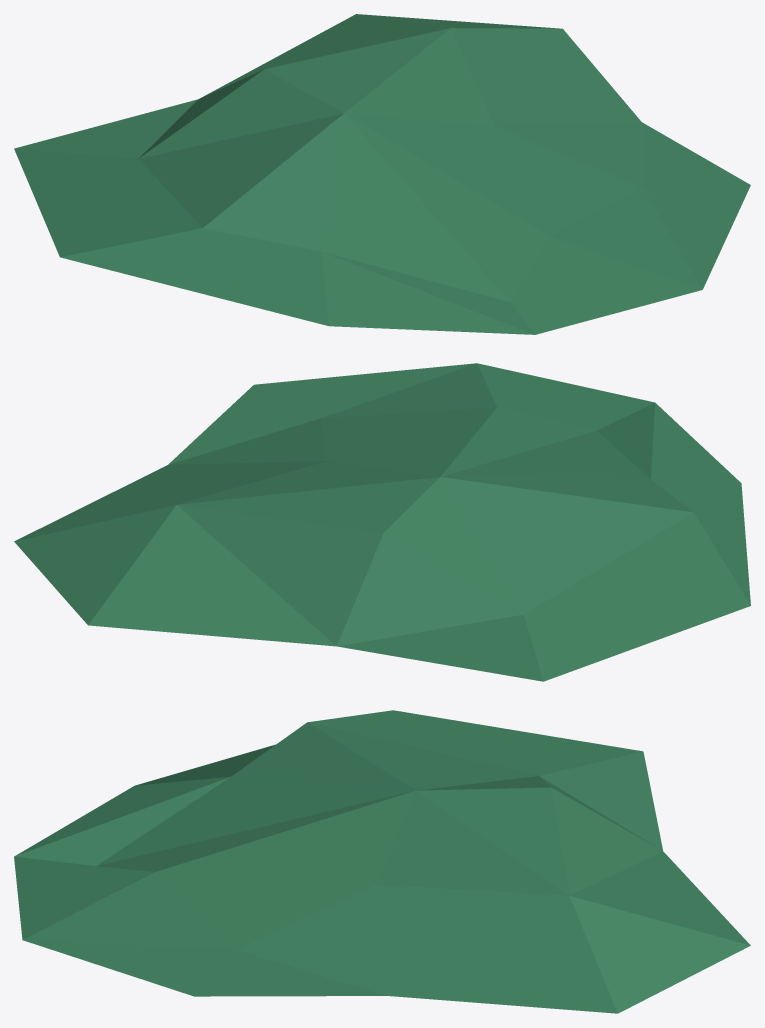
File: SM_L_grey_hill2.fbx
The picture shows the model from 3 angles, top to bottom: view 1: azimuth 30°, elevation 25°; view 2: azimuth 150°, elevation 25°; view 3: azimuth 270°, elevation 25°; orthographic projection.
Parts seen in each view (by area): view 1: SM_L_Env_Grey_hill; view 2: SM_L_Env_Grey_hill; view 3: SM_L_Env_Grey_hill.
Boxes of the visible parts, bbox=[...] form: SM_L_Env_Grey_hill: bbox=[14, 14, 750, 334]; SM_L_Env_Grey_hill: bbox=[14, 363, 750, 681]; SM_L_Env_Grey_hill: bbox=[14, 710, 750, 1013].
Bounding box in the file's own units: 2.62 × 0.297 × 2.73.
